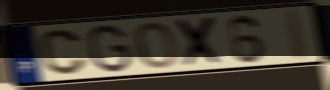6: (227, 13, 266, 65)
C: (37, 28, 89, 77)
G: (86, 23, 133, 75)
I: (287, 7, 310, 63)
O: (133, 21, 179, 71)
X: (174, 15, 226, 70)
